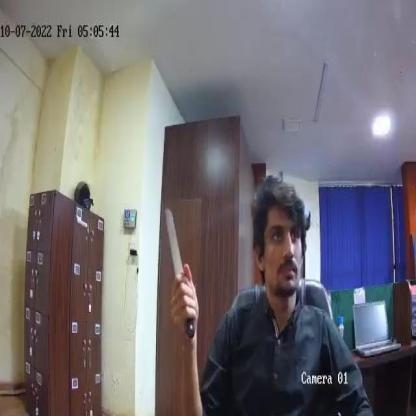Knife: (162, 204, 201, 344)
